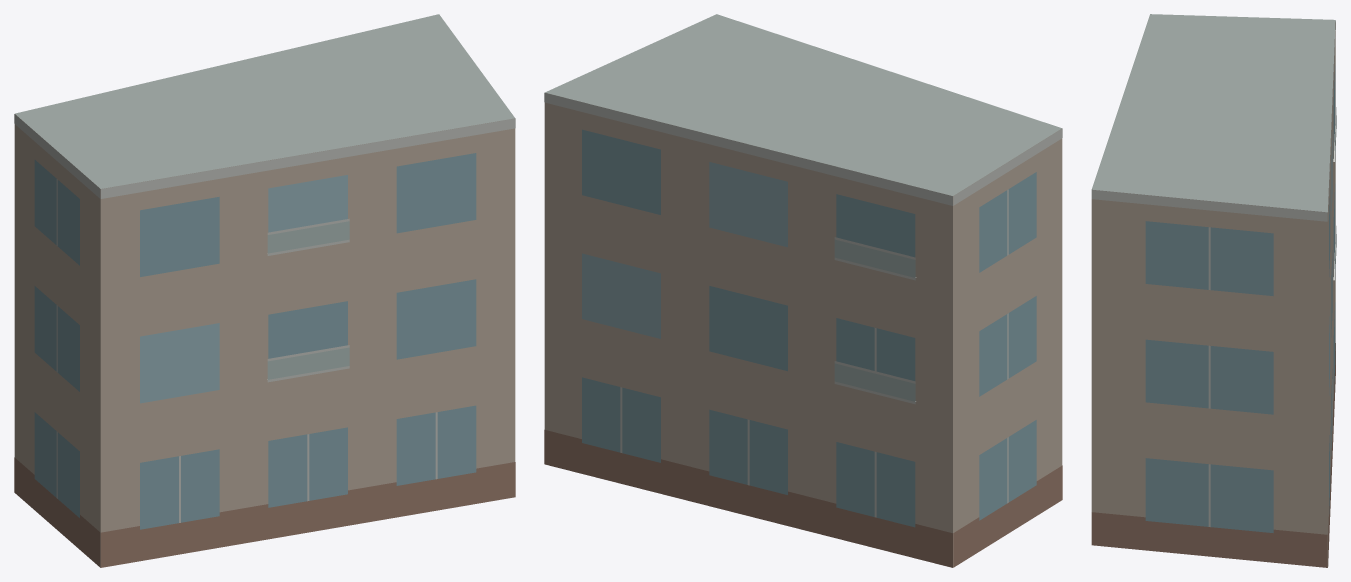
File: survey-upis-32505796.glb
3 views of the same model, side by side, from view 1: azimuth 30°, elevation 25°; view 2: azimuth 150°, elevation 25°; view 3: azimuth 270°, elevation 25° (orthographic). The views are drawn at different scales.
Visible parts, largest first — view 1: survey-upis-32505796.tmp; view 2: survey-upis-32505796.tmp; view 3: survey-upis-32505796.tmp.
Part boxes in pixels (x1,y1,x2,y2): survey-upis-32505796.tmp: (14,14,515,567); survey-upis-32505796.tmp: (544,14,1062,567); survey-upis-32505796.tmp: (1091,14,1336,567).
Size of the model in its own units: 10.96 by 9.15 by 5.72.
